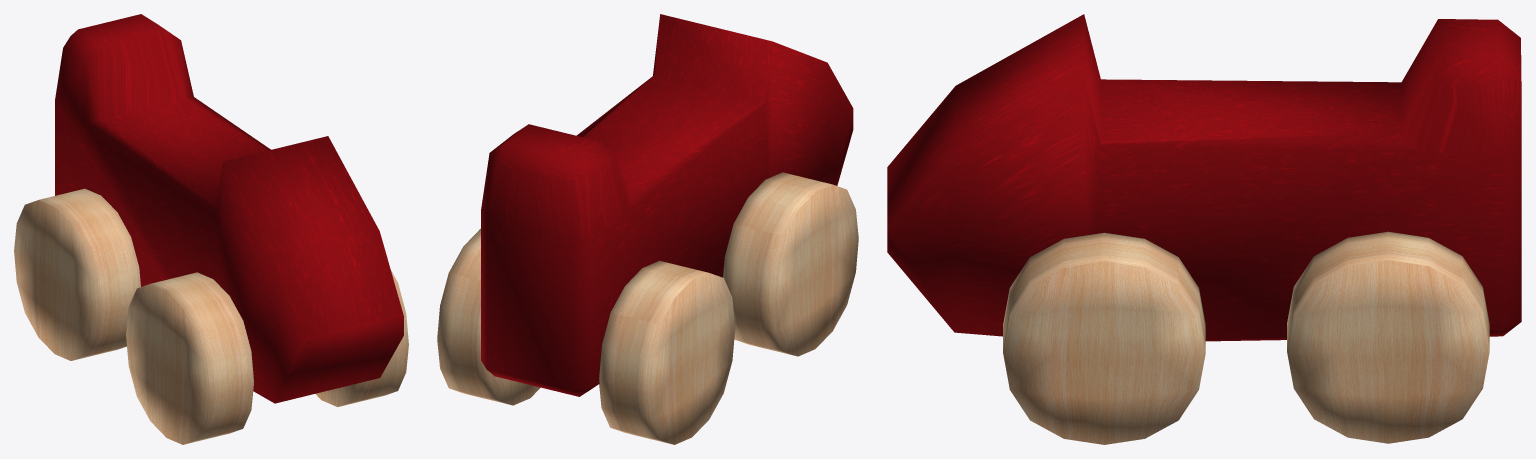
Rendered from toy 1.fbx.
The picture shows the model from 3 angles, left to right: view 1: azimuth 30°, elevation 25°; view 2: azimuth 150°, elevation 25°; view 3: azimuth 270°, elevation 25°; orthographic projection. The views are drawn at different scales.
Parts seen in each view (by area): view 1: toy_body, rol1, rol3, rol; view 2: toy_body, rol3, rol1, rol2; view 3: toy_body, rol, rol2.
Part boxes in pixels (left/top/right/bottom): toy_body: left=55, top=14, right=403, bottom=403; rol1: left=126, top=272, right=253, bottom=444; rol3: left=14, top=188, right=140, bottom=360; rol: left=315, top=270, right=408, bottom=406; toy_body: left=481, top=14, right=853, bottom=396; rol3: left=599, top=260, right=735, bottom=444; rol1: left=723, top=172, right=858, bottom=356; rol2: left=437, top=228, right=540, bottom=405; toy_body: left=887, top=14, right=1521, bottom=341; rol: left=1003, top=232, right=1205, bottom=444; rol2: left=1287, top=231, right=1489, bottom=443.
Size of the model in its own units: 77.67 by 102 by 170.
